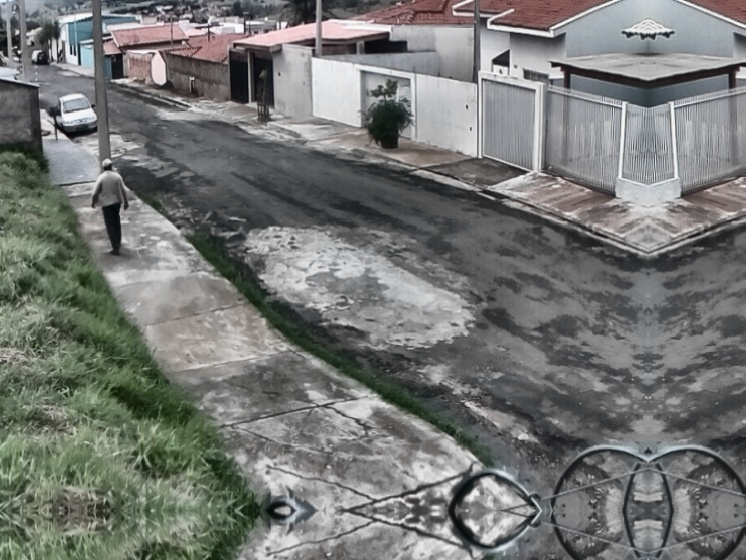person: (88, 156, 130, 260)
